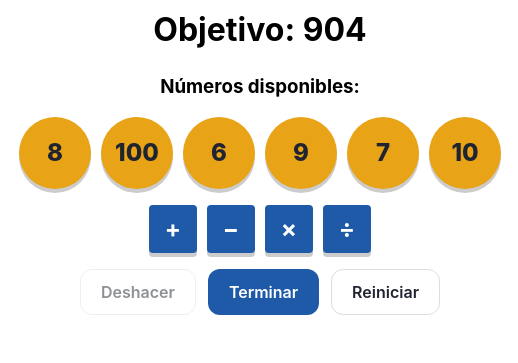
Test: NumbersGame › undoes the last step
The width and height of the screenshot is (518, 363).
expect the button "Deshacer" is disabled: met, box [80, 269, 196, 315]
What coordinates should you click on to do the following:
click the button "8"
I would click on:
 (55, 153)
Its box is [19, 117, 91, 189].
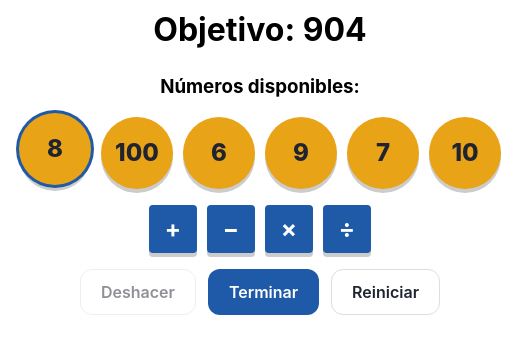
What coordinates should you click on to do the following:
click the button named "Sumar"
I would click on:
 (173, 229)
Its box is [149, 205, 197, 253].
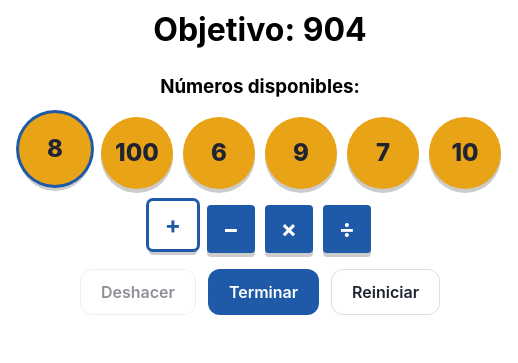
What coordinates should you click on to do the following:
click the button "100"
I would click on:
 (137, 153)
Its box is [101, 117, 173, 189].
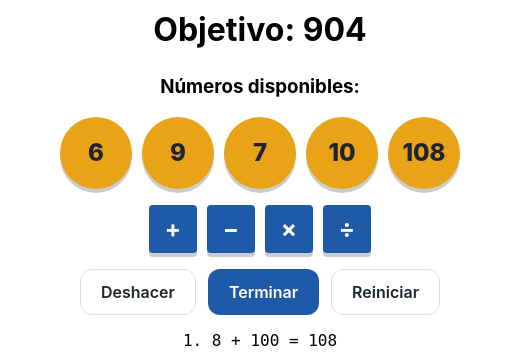
expect the button "Deshacer" is enabled: met
What coordinates should you click on to do the following:
click the button "Deshacer"
I would click on:
 (138, 292)
Its box is [80, 269, 196, 315].
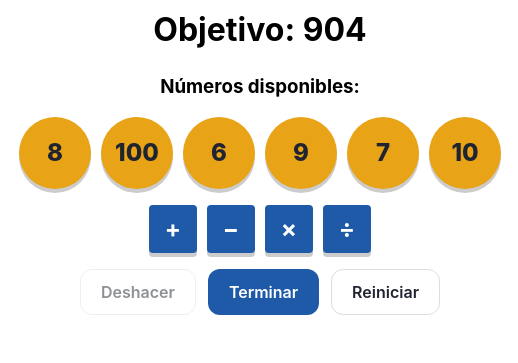
expect the button "Deshacer" is disabled: met, box [80, 269, 196, 315]
